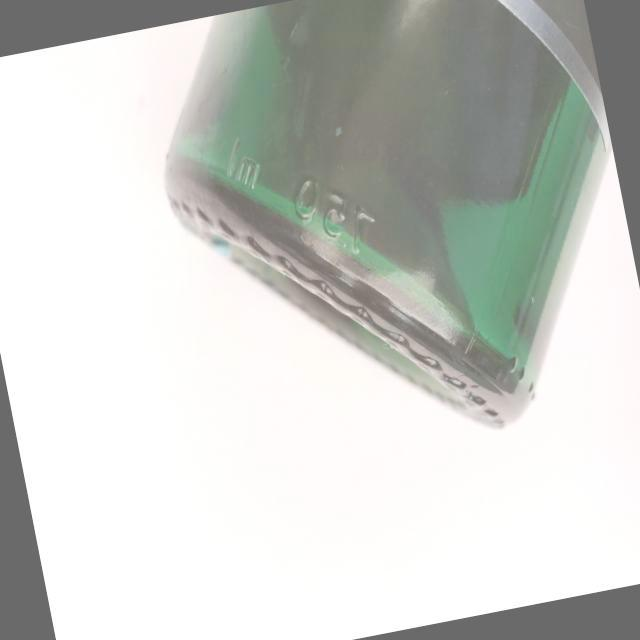glass: (120, 0, 640, 500)
